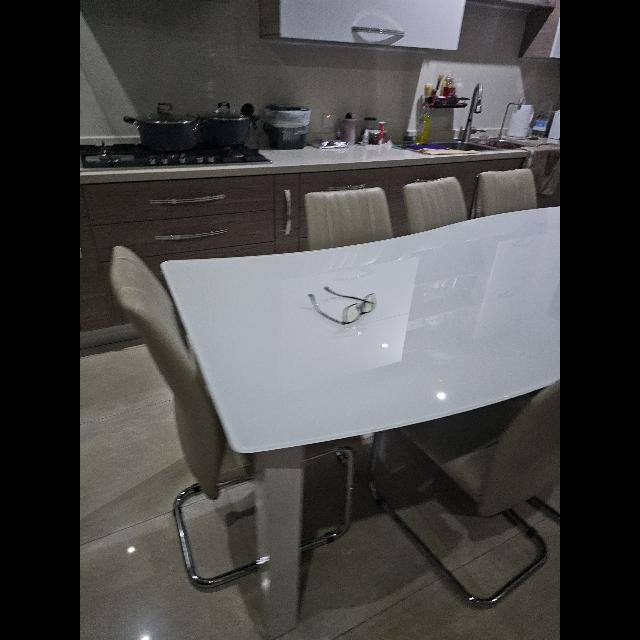glasses: (308, 287, 376, 325)
